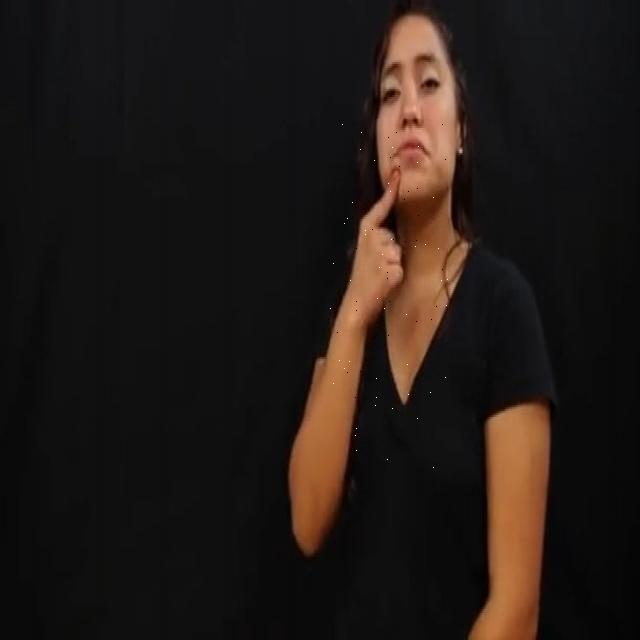bitter: (330, 120, 448, 486)
